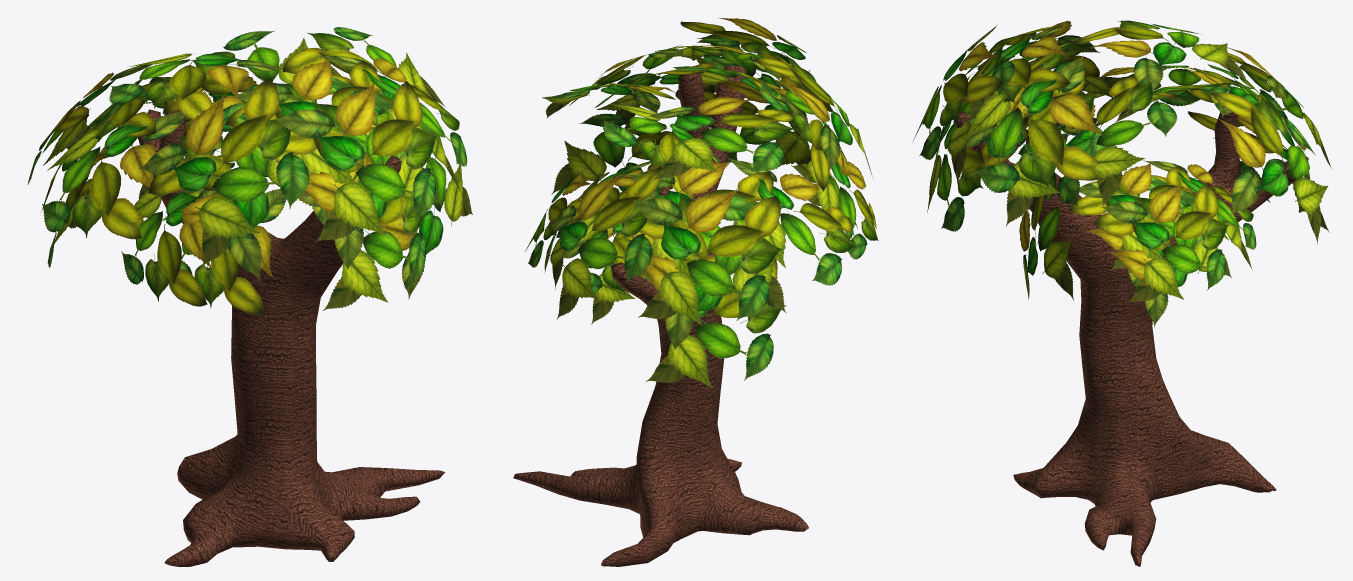
The model's file is Oak.fbx.
3 renders of one model, left to right at view 1: azimuth 30°, elevation 25°; view 2: azimuth 150°, elevation 25°; view 3: azimuth 270°, elevation 25°, orthographic. The views are drawn at different scales.
Parts seen in each view (by area): view 1: tree:Group42955, tree:Leaves1, tree:Leaves9, tree:Leaves32, tree:Leaves26, tree:Leaves44, tree:Leaves5, tree:Leaves2, tree:Leaves8, tree:Leaves33, tree:Leaves20, tree:Leaves37 (+9 smaller); view 2: tree:Group42955, tree:Leaves31, tree:Leaves30, tree:Leaves5, tree:Leaves23, tree:Leaves32, tree:Leaves28, tree:Leaves37, tree:Leaves4, tree:Leaves1, tree:Leaves42, tree:Leaves26 (+15 smaller); view 3: tree:Group42955, tree:Leaves46, tree:Leaves14, tree:Leaves30, tree:Leaves39, tree:Leaves5, tree:Leaves37, tree:Leaves9, tree:Leaves45, tree:Leaves15, tree:Leaves49, tree:Leaves44 (+14 smaller).
Part boxes in pixels (<box>): tree:Group42955: <box>138,101,445,566</box>; tree:Leaves1: <box>138,78,309,267</box>; tree:Leaves9: <box>273,80,438,242</box>; tree:Leaves32: <box>42,112,184,239</box>; tree:Leaves26: <box>121,175,221,306</box>; tree:Leaves44: <box>298,154,426,310</box>; tree:Leaves5: <box>109,53,282,121</box>; tree:Leaves2: <box>148,102,301,281</box>; tree:Leaves8: <box>284,90,441,269</box>; tree:Leaves33: <box>230,58,404,197</box>; tree:Leaves20: <box>162,189,286,314</box>; tree:Leaves37: <box>379,125,472,299</box>; tree:Group42955: <box>513,65,808,566</box>; tree:Leaves31: <box>633,189,784,325</box>; tree:Leaves30: <box>550,166,661,319</box>; tree:Leaves5: <box>647,97,796,180</box>; tree:Leaves23: <box>644,254,786,388</box>; tree:Leaves32: <box>726,157,858,285</box>; tree:Leaves28: <box>639,192,786,349</box>; tree:Leaves37: <box>551,113,682,194</box>; tree:Leaves4: <box>626,162,773,276</box>; tree:Leaves1: <box>753,53,872,177</box>; tree:Leaves42: <box>603,102,719,199</box>; tree:Leaves26: <box>807,161,878,259</box>; tree:Group42955: <box>954,95,1308,566</box>; tree:Leaves46: <box>964,55,1102,192</box>; tree:Leaves14: <box>1101,182,1230,302</box>; tree:Leaves30: <box>1210,92,1328,244</box>; tree:Leaves39: <box>1062,76,1177,206</box>; tree:Leaves5: <box>1071,20,1248,90</box>; tree:Leaves37: <box>1019,171,1080,300</box>; tree:Leaves9: <box>913,25,1003,159</box>; tree:Leaves45: <box>966,78,1105,226</box>; tree:Leaves15: <box>1092,188,1231,327</box>; tree:Leaves49: <box>1079,163,1202,270</box>; tree:Leaves44: <box>927,122,1020,231</box>.
Bounding box in the file's own units: 15.36 × 18.5 × 15.71.
2 materials, 2 textured.
